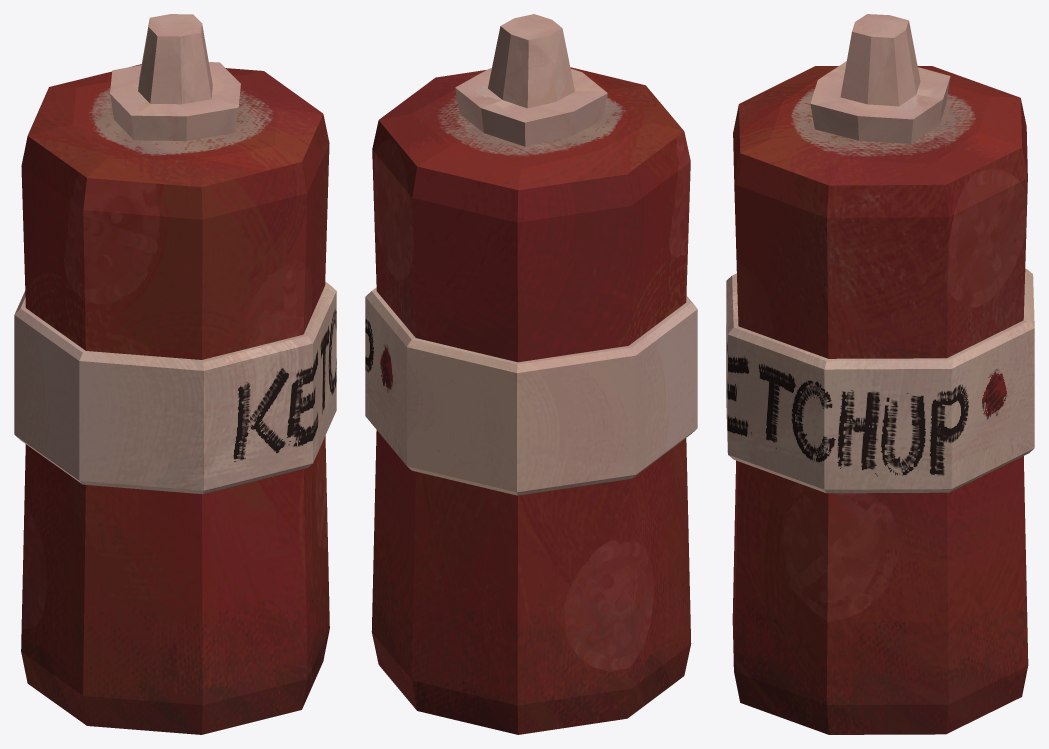
The model's file is ketchup-frasco.fbx.
3 views of the same model, side by side, from view 1: azimuth 30°, elevation 25°; view 2: azimuth 150°, elevation 25°; view 3: azimuth 270°, elevation 25° (orthographic).
Parts seen in each view (by area): view 1: Cube; view 2: Cube; view 3: Cube.
Part boxes in pixels (<box>): Cube: <box>14,14,336,734</box>; Cube: <box>365,14,697,734</box>; Cube: <box>726,14,1034,734</box>.
Bounding box in the file's own units: 1.64 × 3.84 × 1.64.
